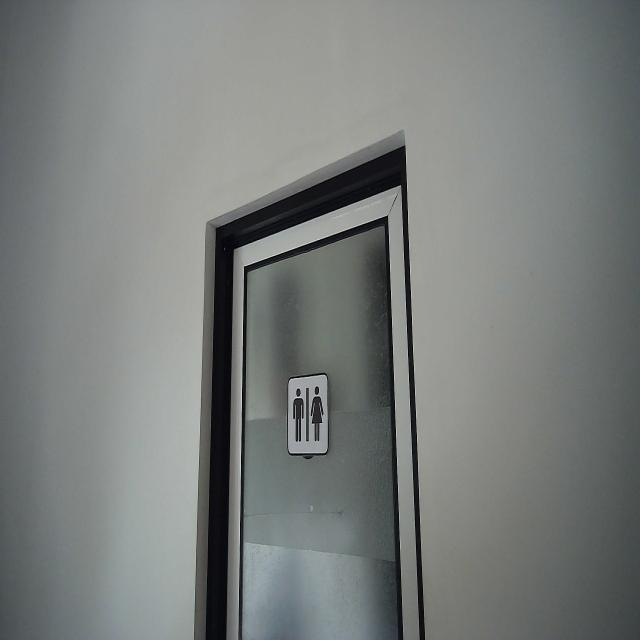restroom: (284, 371, 332, 458)
